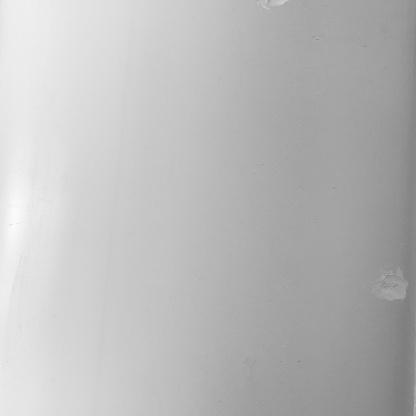sunshang: (368, 259, 416, 306)
